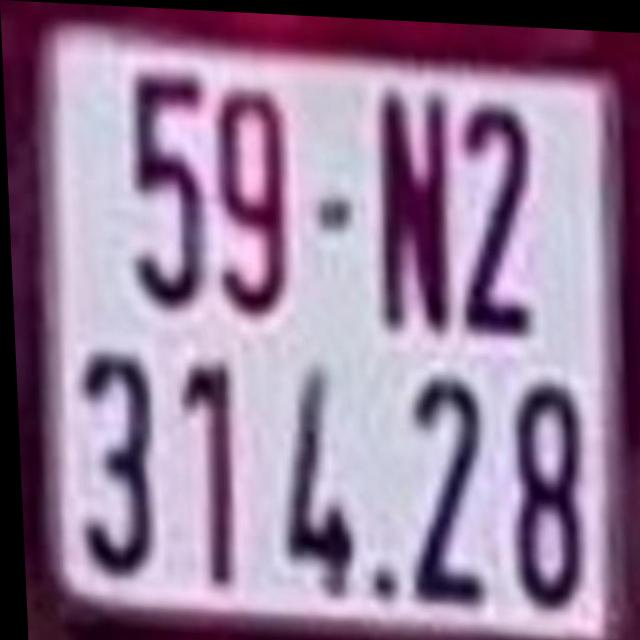1: (178, 344, 233, 579)
2: (459, 95, 528, 331), (412, 365, 480, 599)
3: (78, 344, 149, 574)
4: (279, 354, 348, 593)
5: (126, 67, 208, 309)
8: (513, 374, 579, 615)
9: (214, 86, 289, 312)
N: (377, 86, 449, 326)
